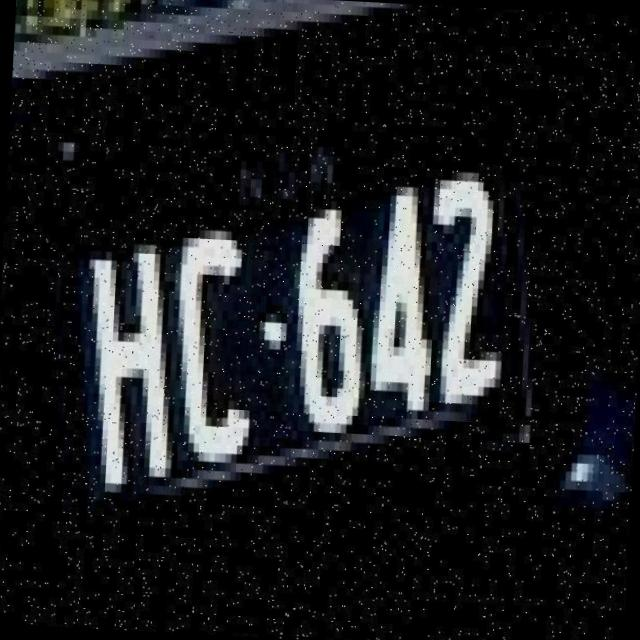LicensePlate: (26, 66, 596, 598)
